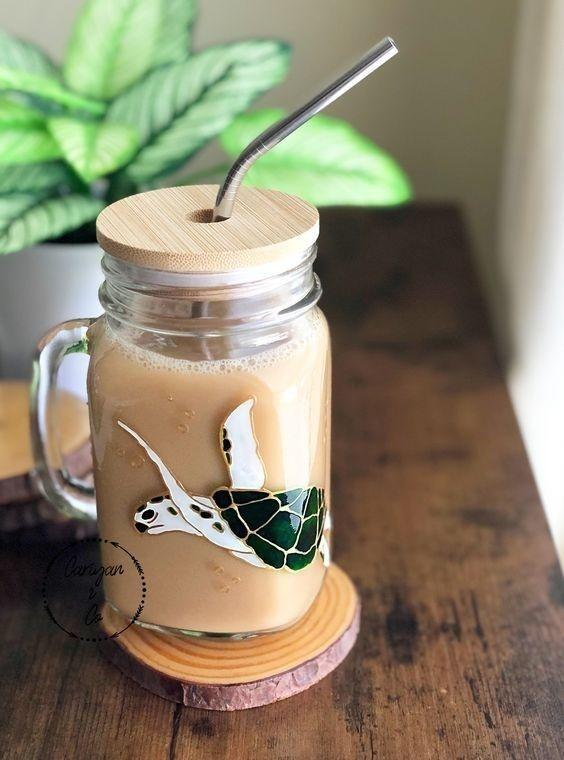glass-mug: (24, 178, 337, 660)
